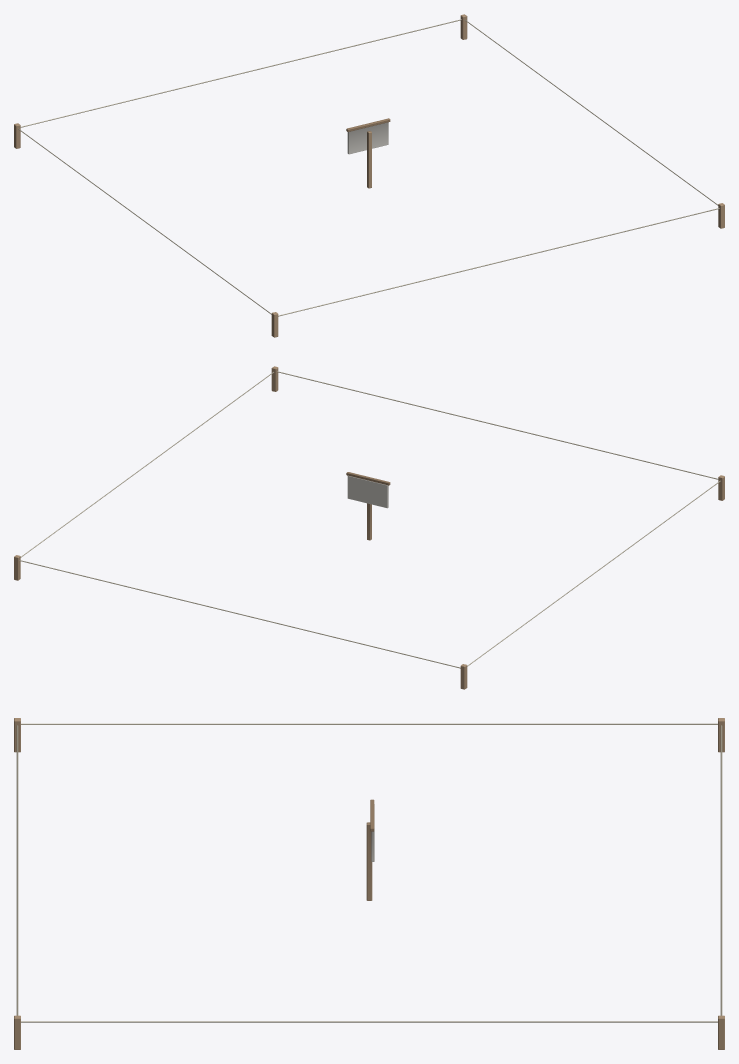
File: home_lot_sign__base.glb
3 renders of one model, top to bottom at view 1: azimuth 30°, elevation 25°; view 2: azimuth 150°, elevation 25°; view 3: azimuth 270°, elevation 25°, orthographic. The views are drawn at different scales.
Bounding box in the file's own units: 10.1 × 1.35 × 10.1.
